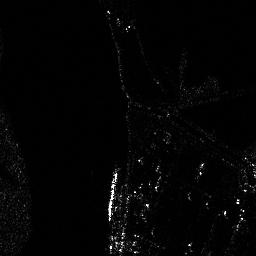ship: (108, 165, 127, 221)
